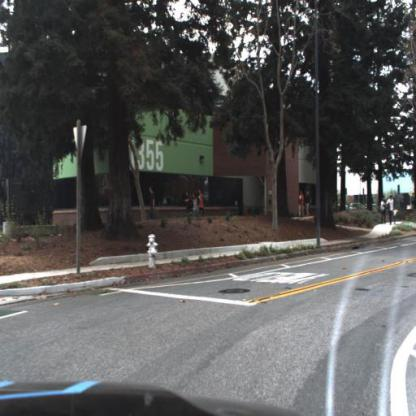pedestrian: (145, 184, 158, 221), (387, 190, 399, 226), (379, 192, 389, 226), (196, 190, 208, 218), (297, 188, 307, 218), (199, 187, 208, 219), (304, 185, 312, 220), (184, 187, 192, 219), (191, 191, 199, 220)
